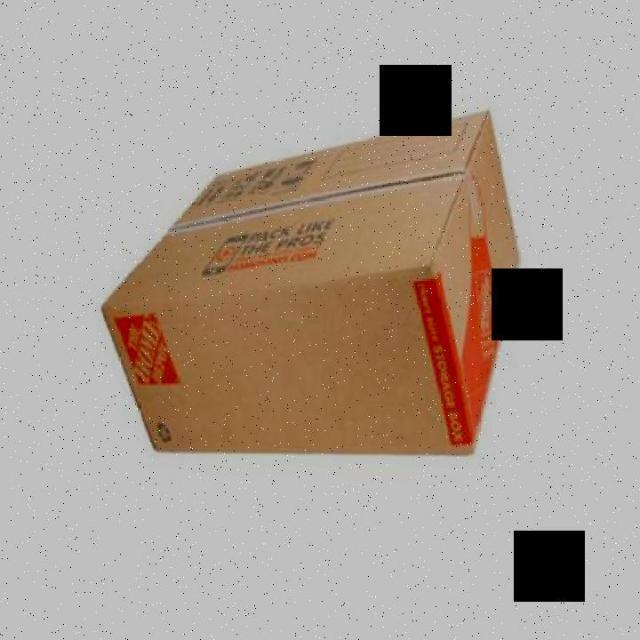box: (97, 108, 526, 466)
